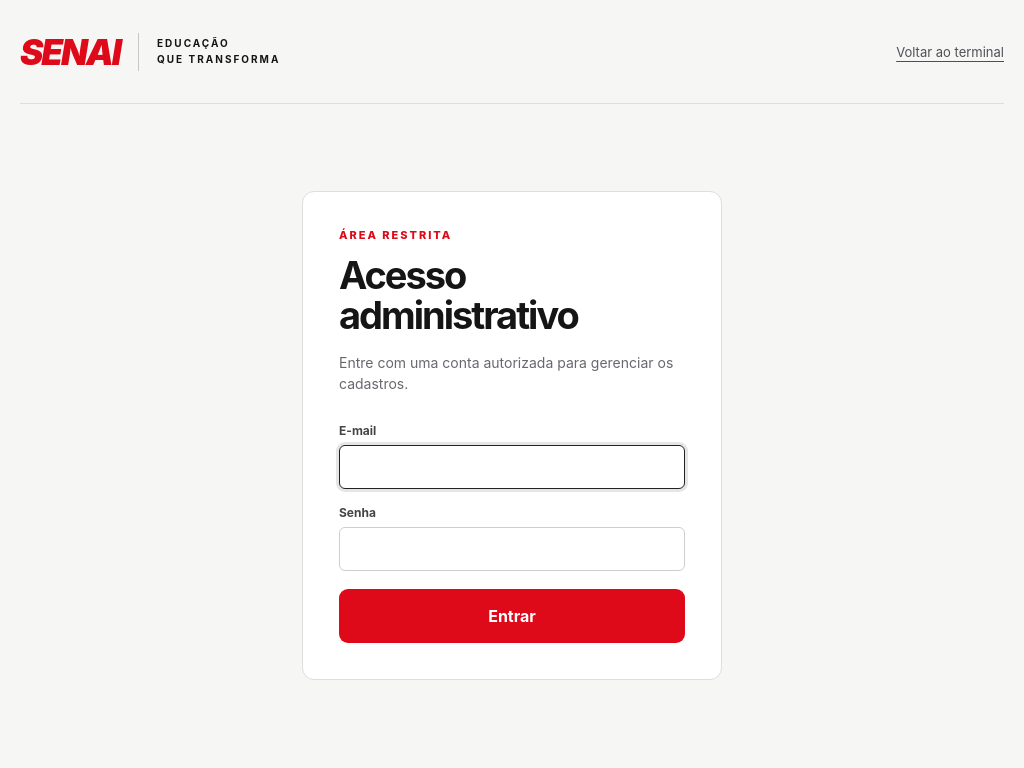
Test: App › exibe erro retornado pelo backend
This screenshot has width=1024, height=768.
Type "admin@senai.br" into the field labelled "E-mail".
click(512, 467); type("admin@senai.br")  # box [339,445,685,489]
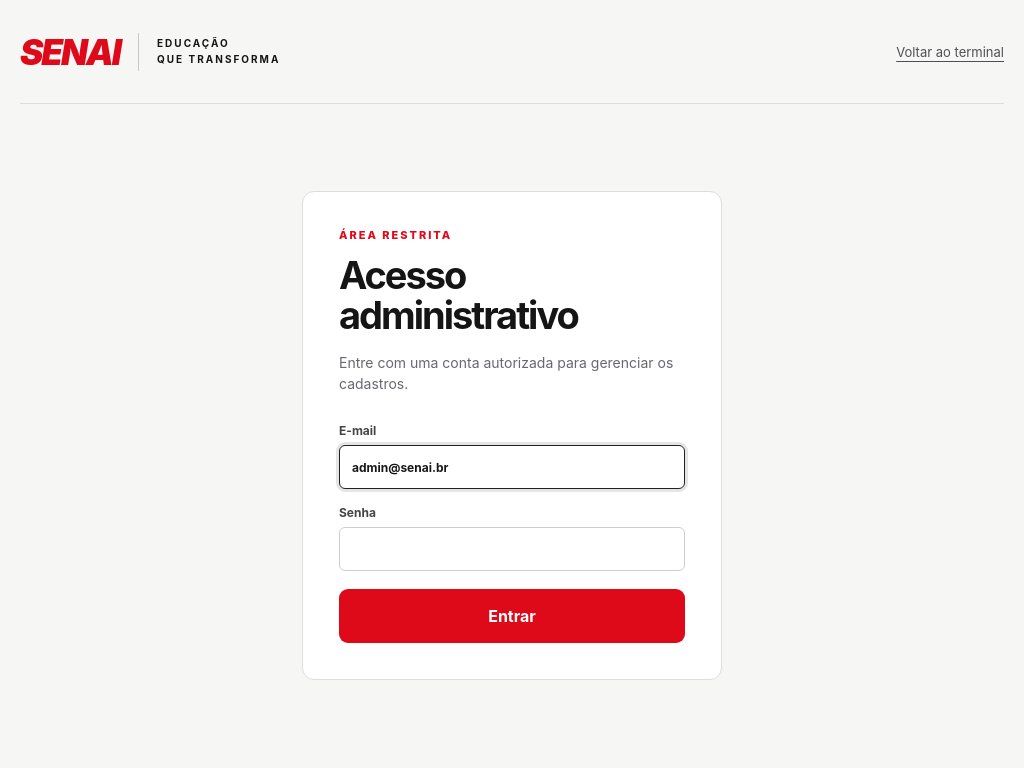
Type "incorreta" into the password field labelled "Senha".
click(512, 549); type("incorreta")  # box [339,527,685,571]
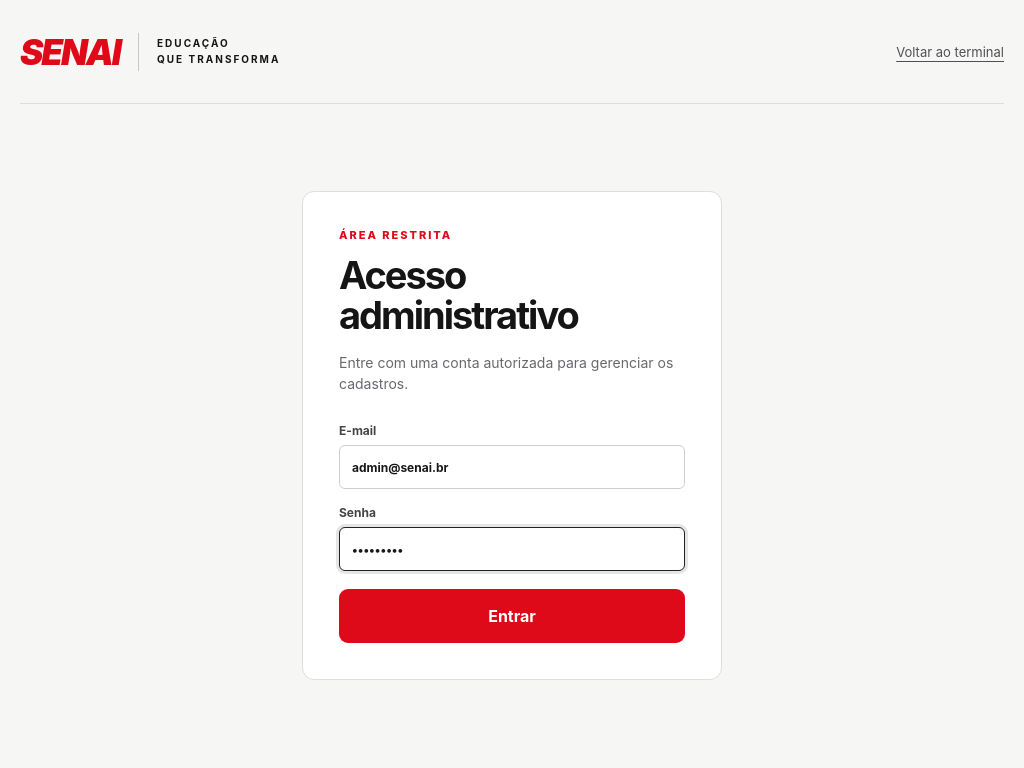
Click the button "Entrar".
click(512, 616)  # box [339,589,685,643]
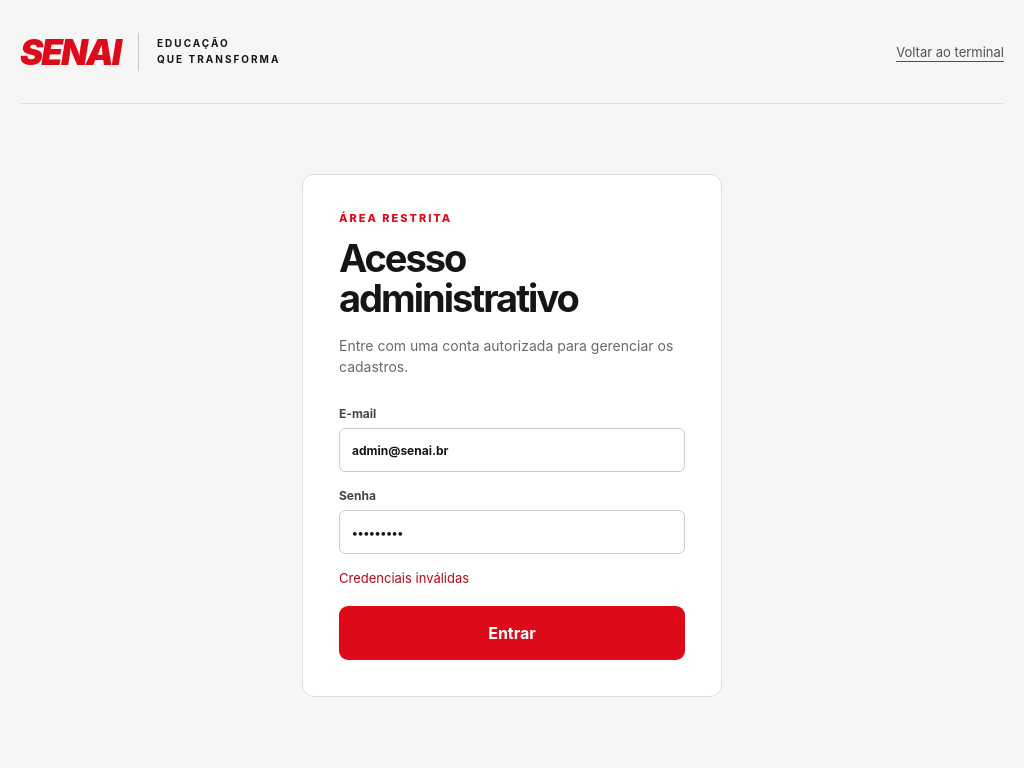
Expected: the message reads "Credenciais inválidas", [339,570,469,586]
